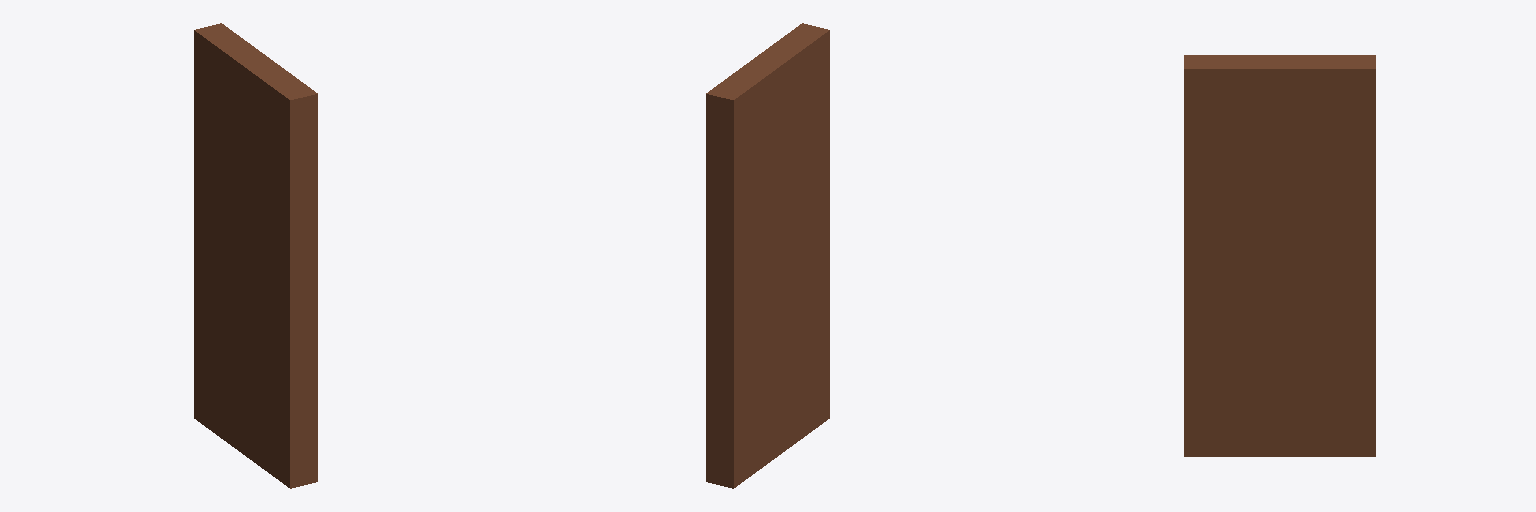
The picture shows the model from 3 angles: view 1: azimuth 30°, elevation 25°; view 2: azimuth 150°, elevation 25°; view 3: azimuth 270°, elevation 25°; orthographic projection.
Visible parts, largest first — view 1: Cube.017_Material.003; view 2: Cube.017_Material.003; view 3: Cube.017_Material.003.
Part boxes in pixels (left/top/right/bottom): Cube.017_Material.003: left=194, top=23, right=317, bottom=488; Cube.017_Material.003: left=706, top=23, right=829, bottom=488; Cube.017_Material.003: left=1184, top=55, right=1375, bottom=456.
Size of the model in its own units: 0.1497 by 2 by 0.9.
Materials: 1 (1 with a texture image).